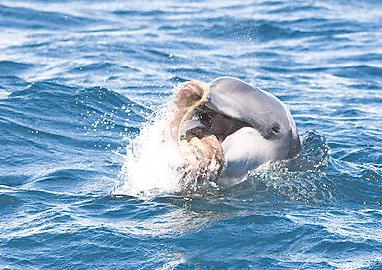fish: (167, 76, 306, 187)
